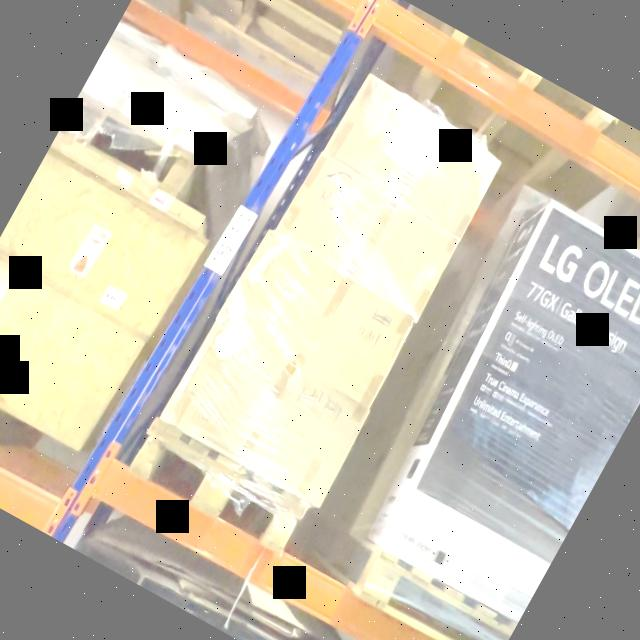box: (161, 326, 368, 504), (216, 233, 418, 409), (277, 162, 458, 310), (325, 85, 501, 229)
